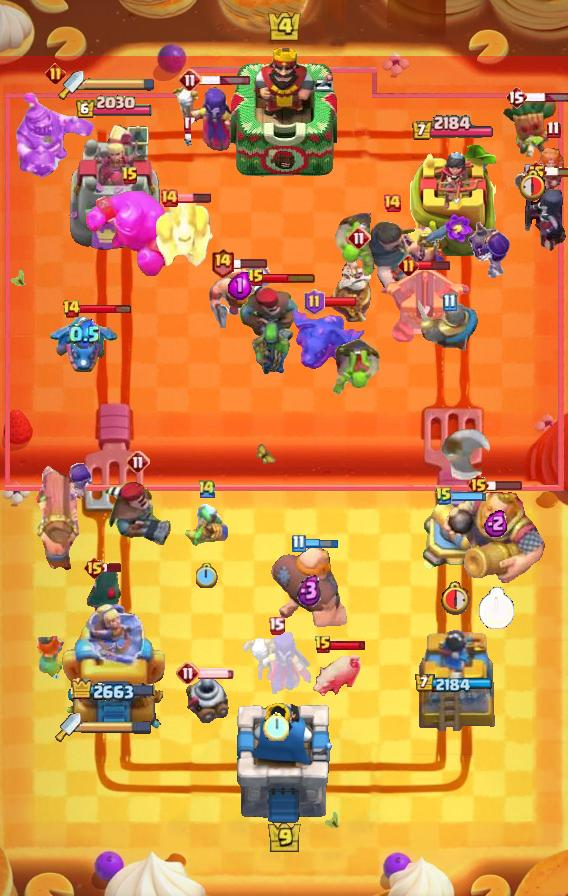axe: (438, 428, 494, 482)
bandit: (85, 565, 129, 625)
bar: (263, 272, 316, 284), (79, 304, 132, 315), (199, 75, 251, 86), (524, 92, 568, 103), (197, 667, 235, 679), (487, 479, 523, 491), (322, 296, 358, 308), (232, 257, 268, 269), (176, 192, 212, 204), (416, 259, 451, 271), (330, 640, 367, 651), (304, 538, 339, 549), (452, 491, 487, 502), (545, 166, 568, 178), (103, 562, 123, 573)
bar-level: (210, 247, 235, 278), (176, 661, 200, 685), (126, 450, 150, 474), (347, 226, 371, 250), (178, 68, 202, 92), (83, 556, 106, 580), (467, 473, 490, 497), (525, 160, 548, 184), (304, 289, 325, 315), (505, 85, 527, 109), (398, 255, 419, 276), (45, 63, 66, 84), (197, 478, 217, 499), (382, 193, 402, 213), (159, 188, 179, 208), (62, 299, 81, 319), (314, 635, 332, 655), (435, 486, 453, 506), (247, 268, 265, 288), (121, 166, 139, 186), (268, 616, 285, 635), (291, 534, 306, 553), (442, 293, 457, 312), (546, 120, 561, 139)
barbarian-evolution: (398, 225, 446, 279)
bomber-evolution: (466, 213, 510, 279)
clock: (478, 587, 515, 630), (441, 580, 473, 615), (516, 168, 546, 201), (263, 711, 289, 741), (196, 563, 218, 588)
dagger-duchess-tower: (59, 595, 169, 731), (67, 122, 161, 256)
dagger-duchess-tower-bar: (81, 720, 153, 734), (84, 77, 156, 91)
dart-goblin: (502, 96, 560, 162)
electro-dragon: (288, 306, 366, 370), (49, 314, 119, 376)
elixir: (69, 319, 100, 350), (297, 574, 322, 607), (228, 270, 252, 300), (484, 509, 509, 537)
goblin-ball: (333, 213, 383, 279), (332, 336, 382, 396)
hog: (310, 649, 362, 699)
hunter: (103, 479, 173, 547), (236, 282, 302, 352)
king-tower: (231, 43, 337, 181), (235, 703, 333, 826)
knight: (418, 300, 480, 352)
lumberjack: (208, 259, 272, 329)
mega-minion: (153, 194, 213, 272)
night-witch: (512, 171, 568, 253)
queen-tower: (403, 621, 503, 731), (410, 145, 496, 256)
skeleton-evolution: (68, 461, 94, 499)
spear-goblin: (251, 320, 291, 378), (182, 503, 232, 547)
tower-bar: (411, 115, 495, 142), (71, 678, 157, 704), (75, 95, 153, 120), (414, 674, 492, 694)
valkyrie: (518, 144, 568, 194), (32, 631, 70, 683)
witch: (169, 84, 237, 152), (241, 632, 311, 694)
zappy: (183, 669, 229, 723)
